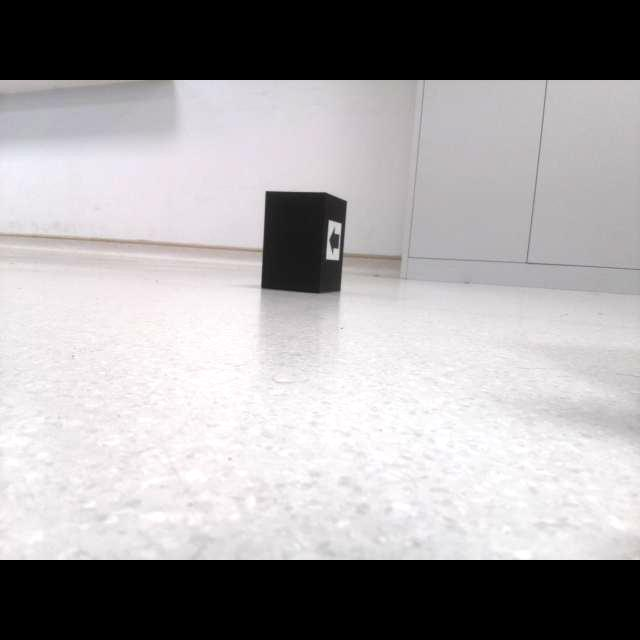LEFT: (328, 225, 340, 256)
